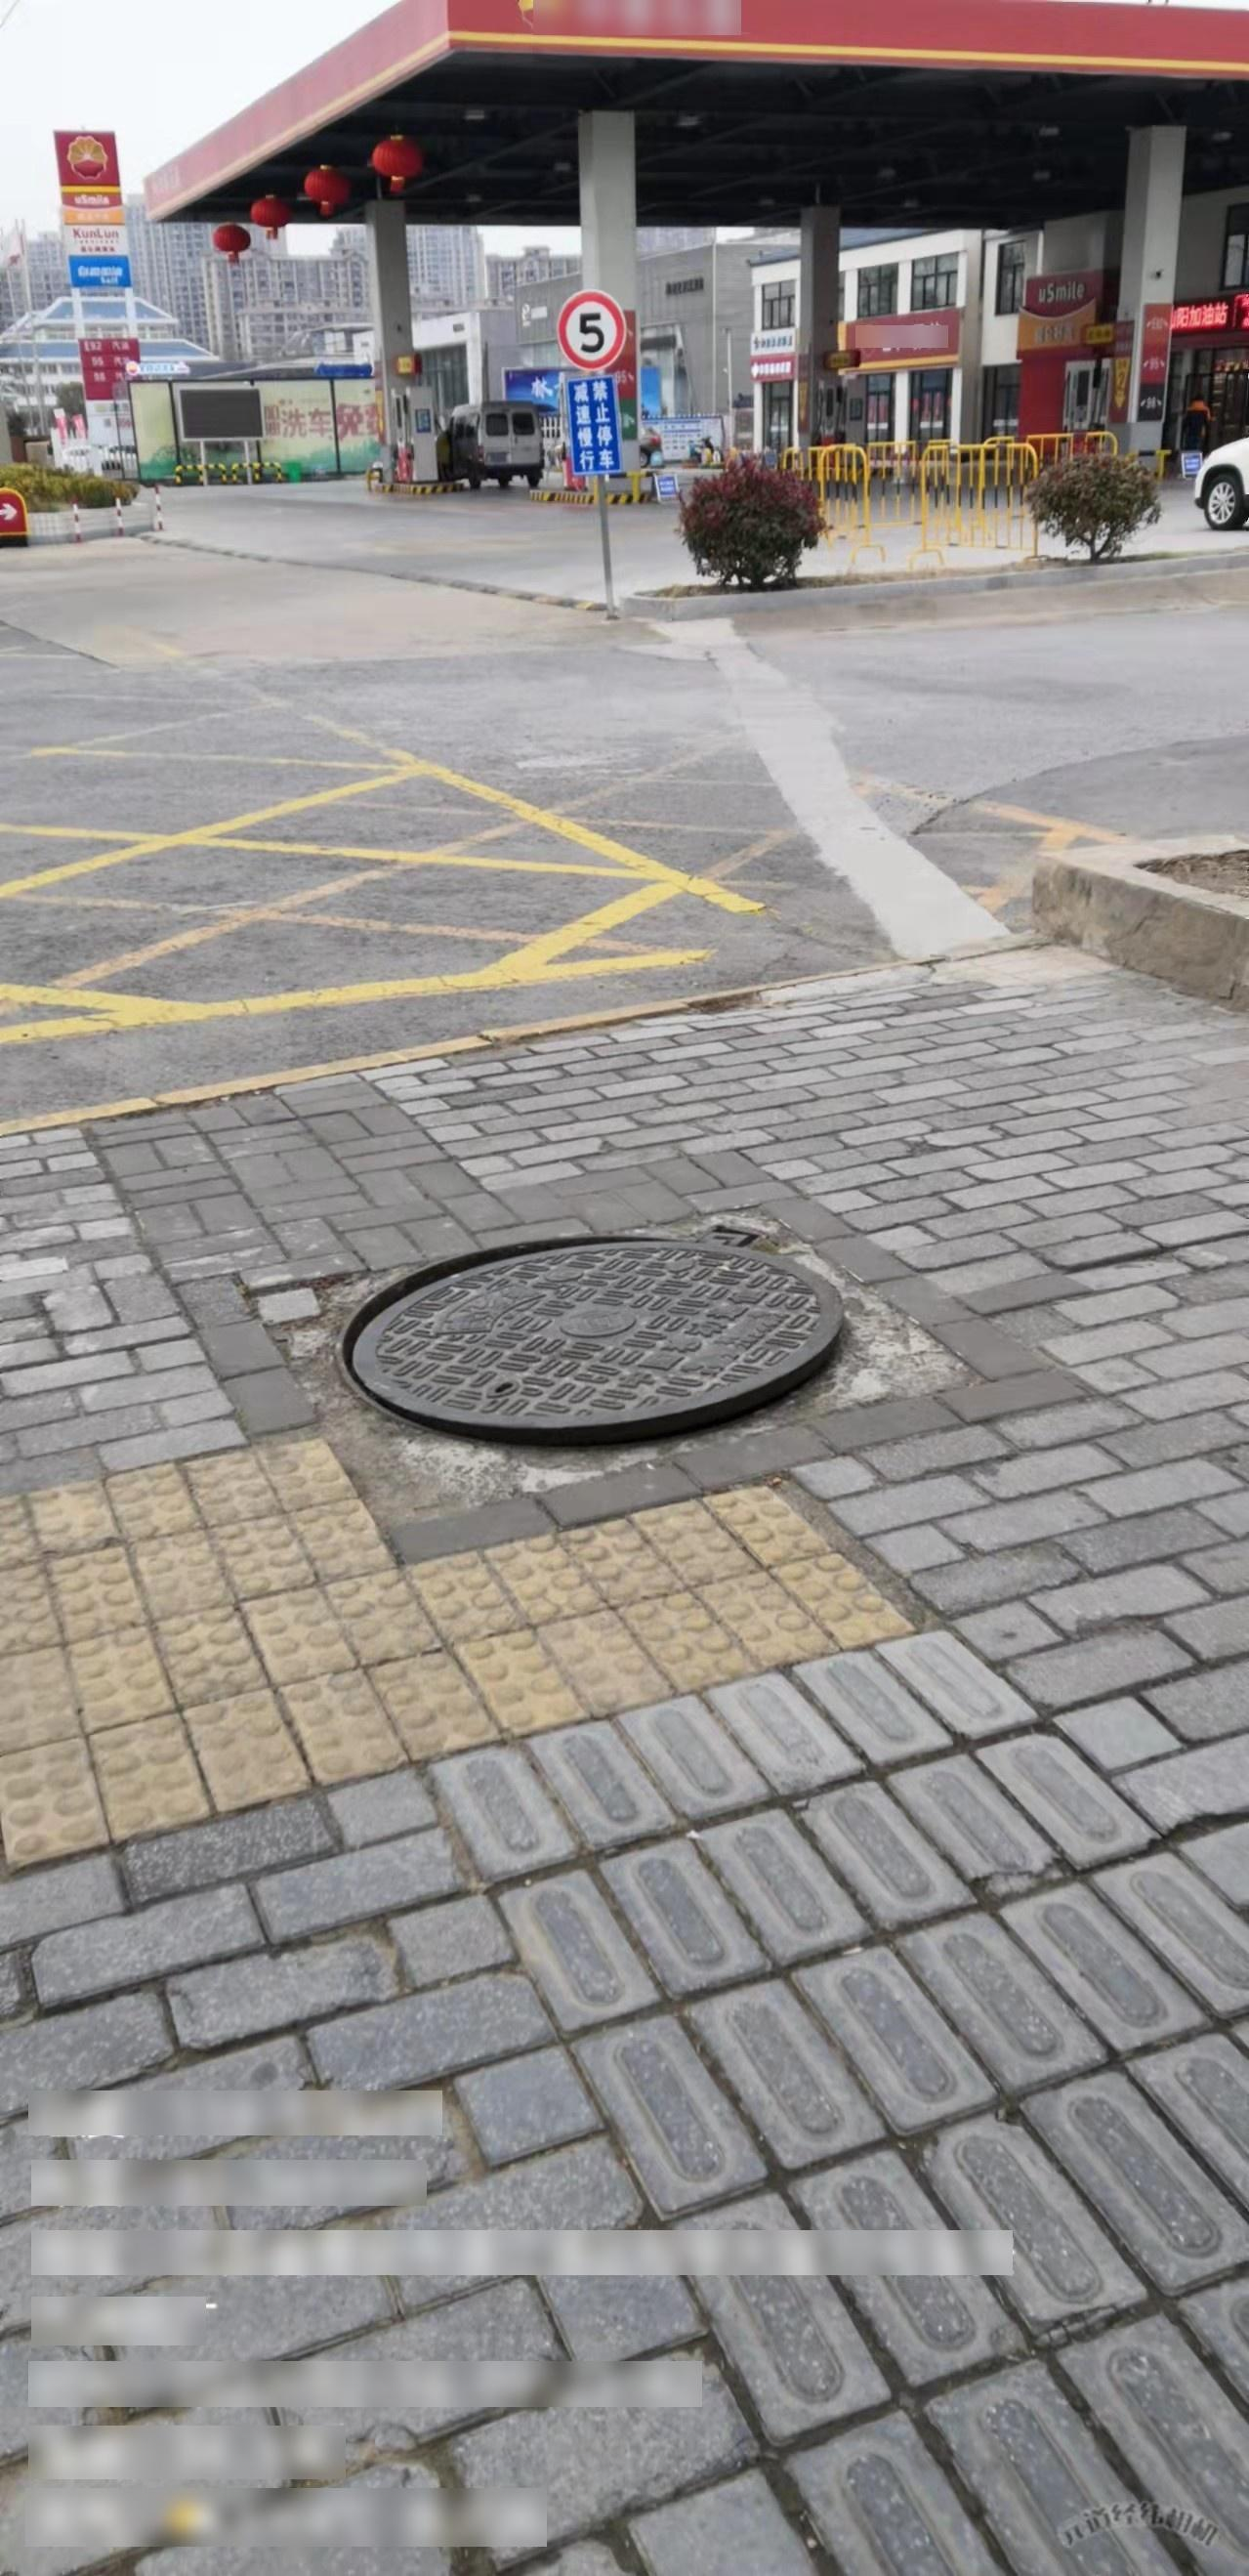wellcover: (343, 1203, 885, 1460)
